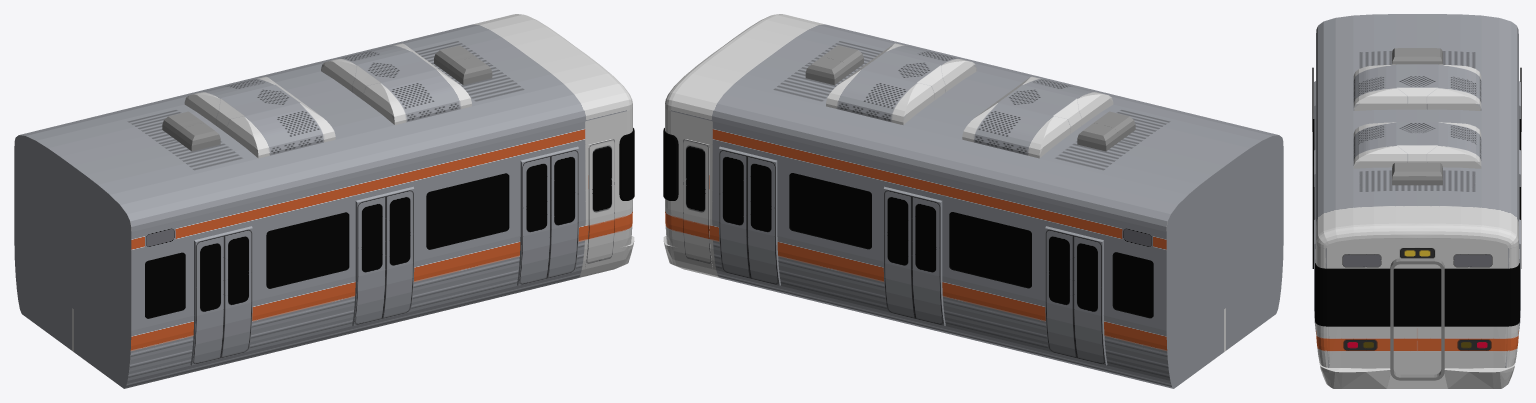
The picture shows the model from 3 angles, left to right: view 1: azimuth 30°, elevation 25°; view 2: azimuth 150°, elevation 25°; view 3: azimuth 270°, elevation 25°; orthographic projection. The views are drawn at different scales.
Parts seen in each view (by area): view 1: Body, Door_3.001, Door_3, Door_3.002, Top_a_2.001, Top_a_2, Window_2, Window_1, Door_3.003, Window_Mini_2, Top_b_2, Top_b_1 (+1 smaller); view 2: Body, Door_3.001, Door_3, Door_3.002, Top_a_2.001, Top_a_2, Window_1, Window_2, Door_3.003, Window_Mini_2, Top_b_2, Top_b_1 (+1 smaller); view 3: Body, FrontWindow, Top_a_2.001, Top_a_2, FrontDoor, Top_b_1, Top_b_2, Window_1, Door_3.002, Window_2, Door_3.001, Door_3 (+1 smaller).
Part boxes in pixels (x1,y1,x2,y2): Body: (14,14,634,388); Door_3.001: (352,186,414,325); Door_3: (190,226,252,365); Door_3.002: (517,146,578,285); Top_a_2.001: (184,76,335,158); Top_a_2: (321,43,471,124); Window_2: (266,212,349,288); Window_1: (426,173,509,249); Door_3.003: (585,139,614,268); Window_Mini_2: (145,252,185,318); Top_b_2: (162,111,220,151); Top_b_1: (434,45,492,85); Body: (663,14,1283,388); Door_3.001: (883,186,945,325); Door_3: (1045,226,1107,365); Door_3.002: (719,146,780,285); Top_a_2.001: (962,76,1113,158); Top_a_2: (826,43,976,124); Window_1: (789,173,871,249); Window_2: (949,212,1031,288); Door_3.003: (683,139,712,268); Window_Mini_2: (1112,252,1153,318); Top_b_2: (1077,111,1135,151); Top_b_1: (805,45,863,85); Body: (1316,14,1518,388); FrontWindow: (1315,263,1519,326); Top_a_2.001: (1353,64,1481,110); Top_a_2: (1353,122,1481,168); FrontDoor: (1390,258,1444,380); Top_b_1: (1392,163,1442,185); Top_b_2: (1392,48,1442,64); Window_1: (1312,187,1521,268); Door_3.002: (1314,219,1520,334); Window_2: (1312,119,1521,186); Door_3.001: (1314,149,1520,219); Door_3: (1314,81,1520,149).
Size of the model in its own units: 827 by 776 by 2032.
